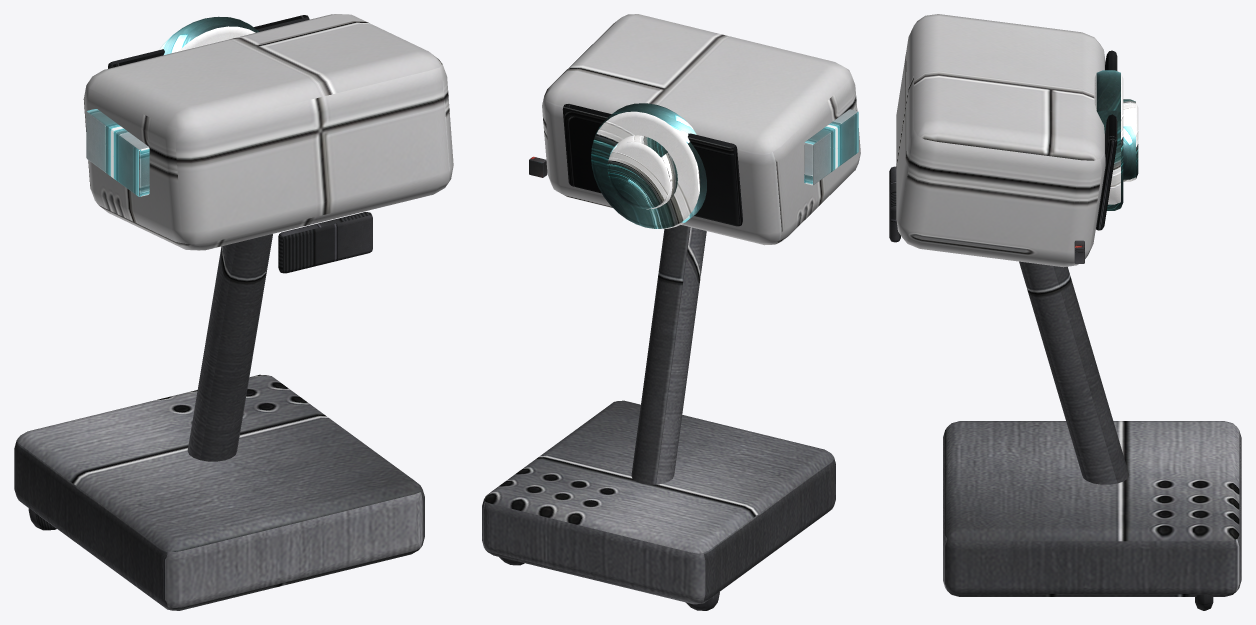
Rendered from hp_l4_cineclinic_projection_pod.glb.
3 renders of one model, left to right at view 1: azimuth 30°, elevation 25°; view 2: azimuth 150°, elevation 25°; view 3: azimuth 270°, elevation 25°, orthographic. The views are drawn at different scales.
Visible parts, largest first — view 1: white_projector_shell, rolling_base, angled_support, rear_cable_socket, cyan_side_gill, main_lens, front_black_glass_bezel; view 2: rolling_base, white_projector_shell, angled_support, main_lens, front_black_glass_bezel, inner_lens_core, cyan_side_gill; view 3: rolling_base, white_projector_shell, angled_support, main_lens, front_black_glass_bezel, inner_lens_core, rear_cable_socket.
Part boxes in pixels (x1=…): white_projector_shell: x1=83, y1=14, x2=453, y2=250; rolling_base: x1=14, y1=374, x2=424, y2=610; angled_support: x1=187, y1=234, x2=272, y2=461; rear_cable_socket: x1=278, y1=212, x2=372, y2=273; cyan_side_gill: x1=86, y1=109, x2=149, y2=196; main_lens: x1=159, y1=16, x2=259, y2=54; front_black_glass_bezel: x1=108, y1=15, x2=309, y2=68; rolling_base: x1=482, y1=400, x2=835, y2=604; white_projector_shell: x1=542, y1=14, x2=860, y2=245; angled_support: x1=631, y1=225, x2=706, y2=484; main_lens: x1=591, y1=103, x2=706, y2=228; front_black_glass_bezel: x1=562, y1=104, x2=742, y2=226; inner_lens_core: x1=607, y1=135, x2=677, y2=209; cyan_side_gill: x1=804, y1=109, x2=858, y2=185; rolling_base: x1=943, y1=421, x2=1241, y2=596; white_projector_shell: x1=896, y1=14, x2=1105, y2=267; angled_support: x1=1019, y1=261, x2=1129, y2=484; main_lens: x1=1094, y1=70, x2=1123, y2=210; front_black_glass_bezel: x1=1096, y1=50, x2=1117, y2=230; inner_lens_core: x1=1123, y1=99, x2=1138, y2=181; rear_cable_socket: x1=889, y1=166, x2=900, y2=242.
Bounding box in the file's own units: 0.8075 × 1.31 × 0.849.
7 materials, 7 textured.
